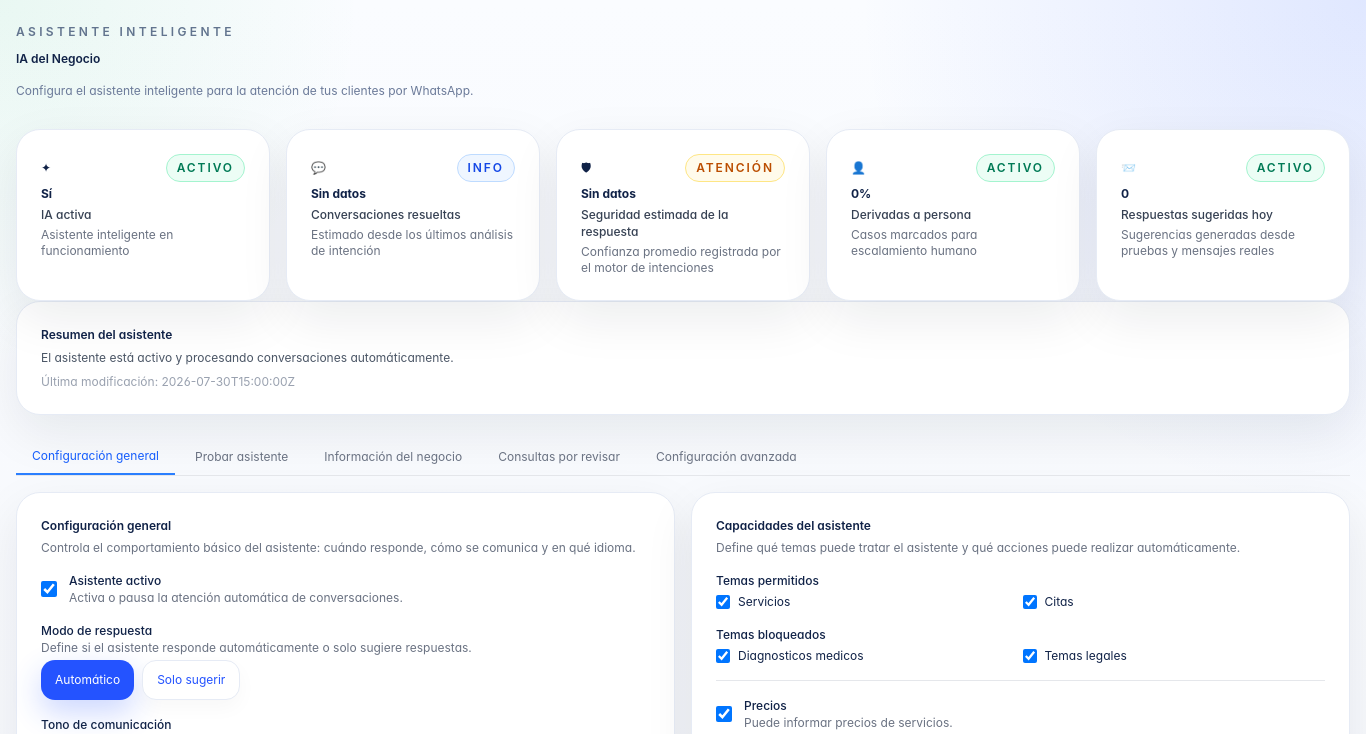
Test: BusinessAiPage › navigates to test section
The width and height of the screenshot is (1366, 734).
Click the button "Probar asistente": {"x": 242, "y": 457} [179,439,304,475]
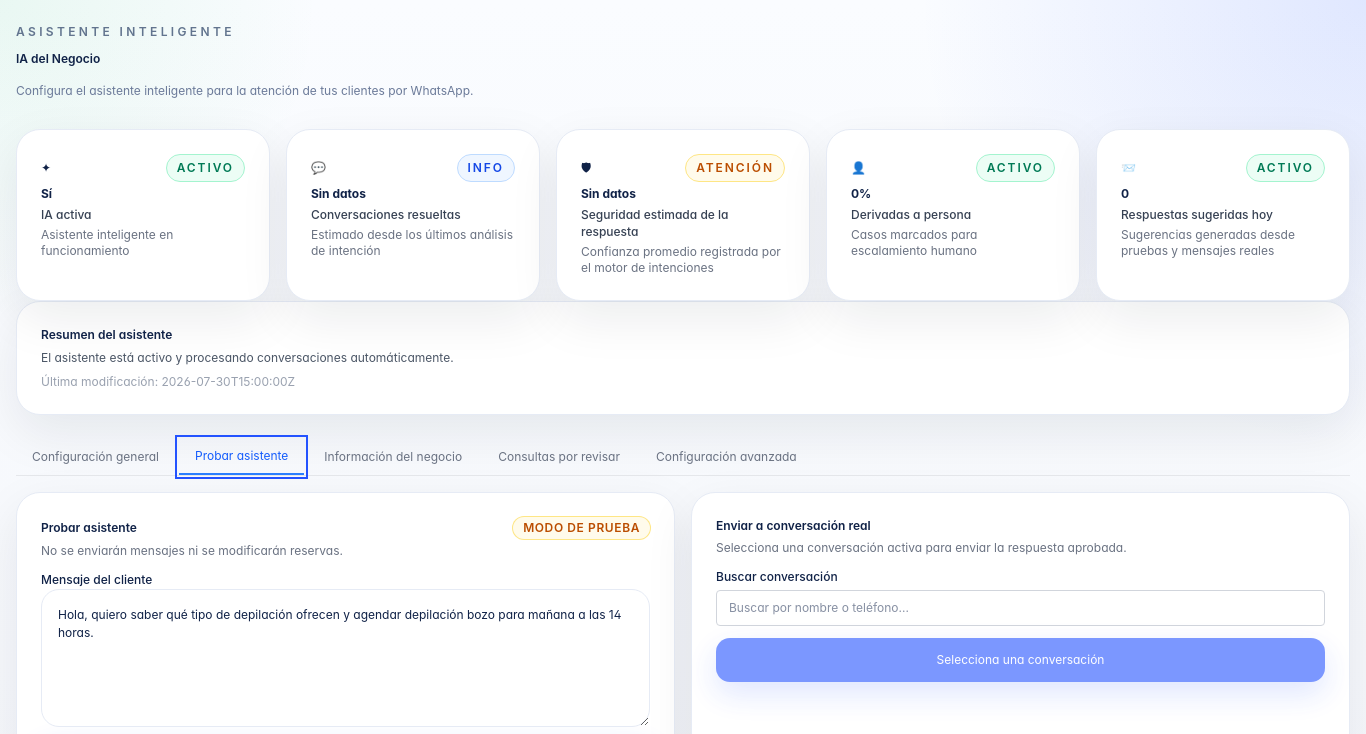
Now the text "Mensaje del cliente" is shown, box [41,572,152,587]
